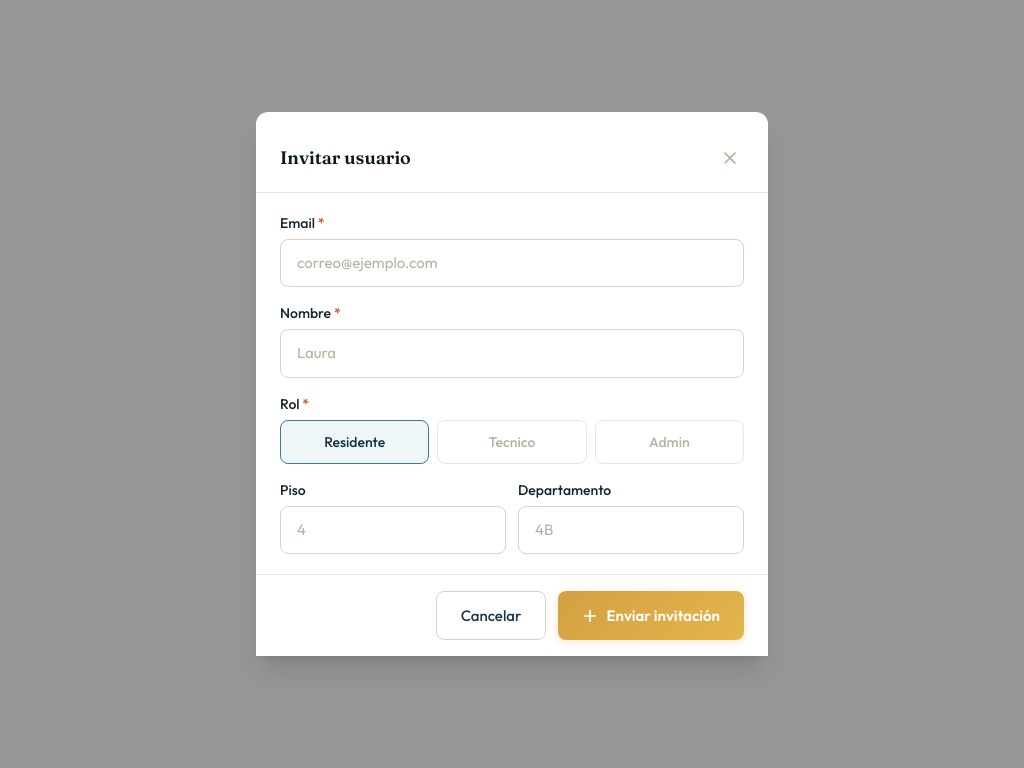
Scenario: ModalInvitacion › muestra campo empresa_tercero solo cuando rol es técnico
Check: the field labelled "empresa" is not shown
Step 1. Click the button "tecnico" → [512, 442], box [437, 420, 587, 464]
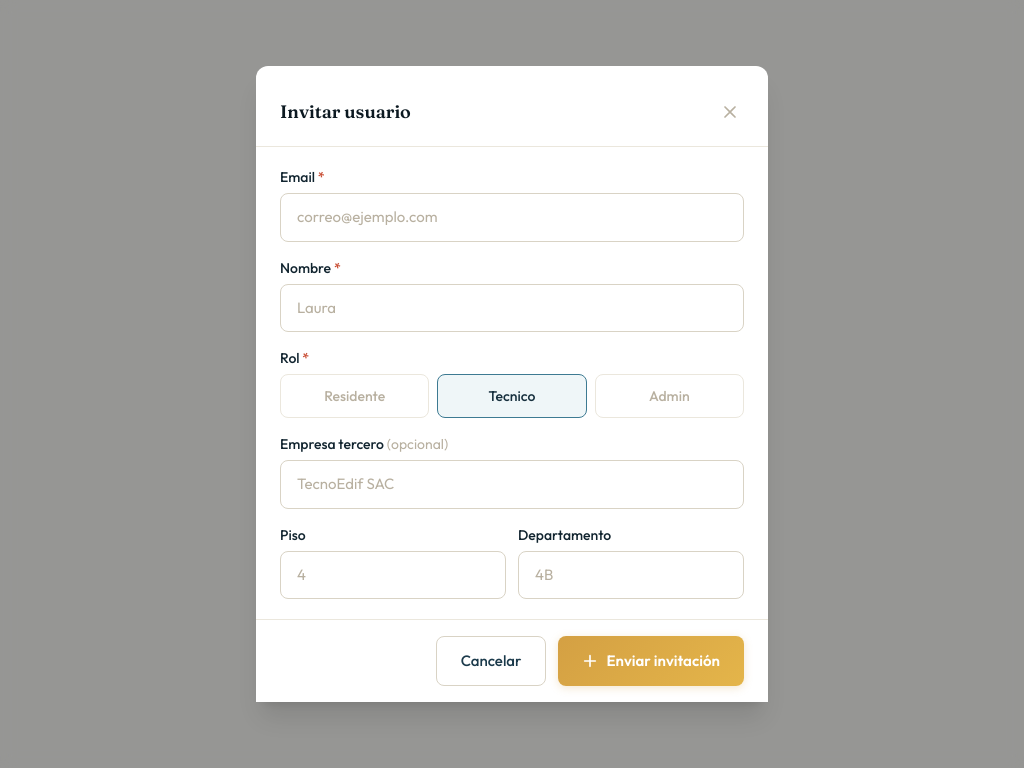
Check: the field labelled "Empresa tercero (opcional)" is shown, box [280, 460, 744, 509]
